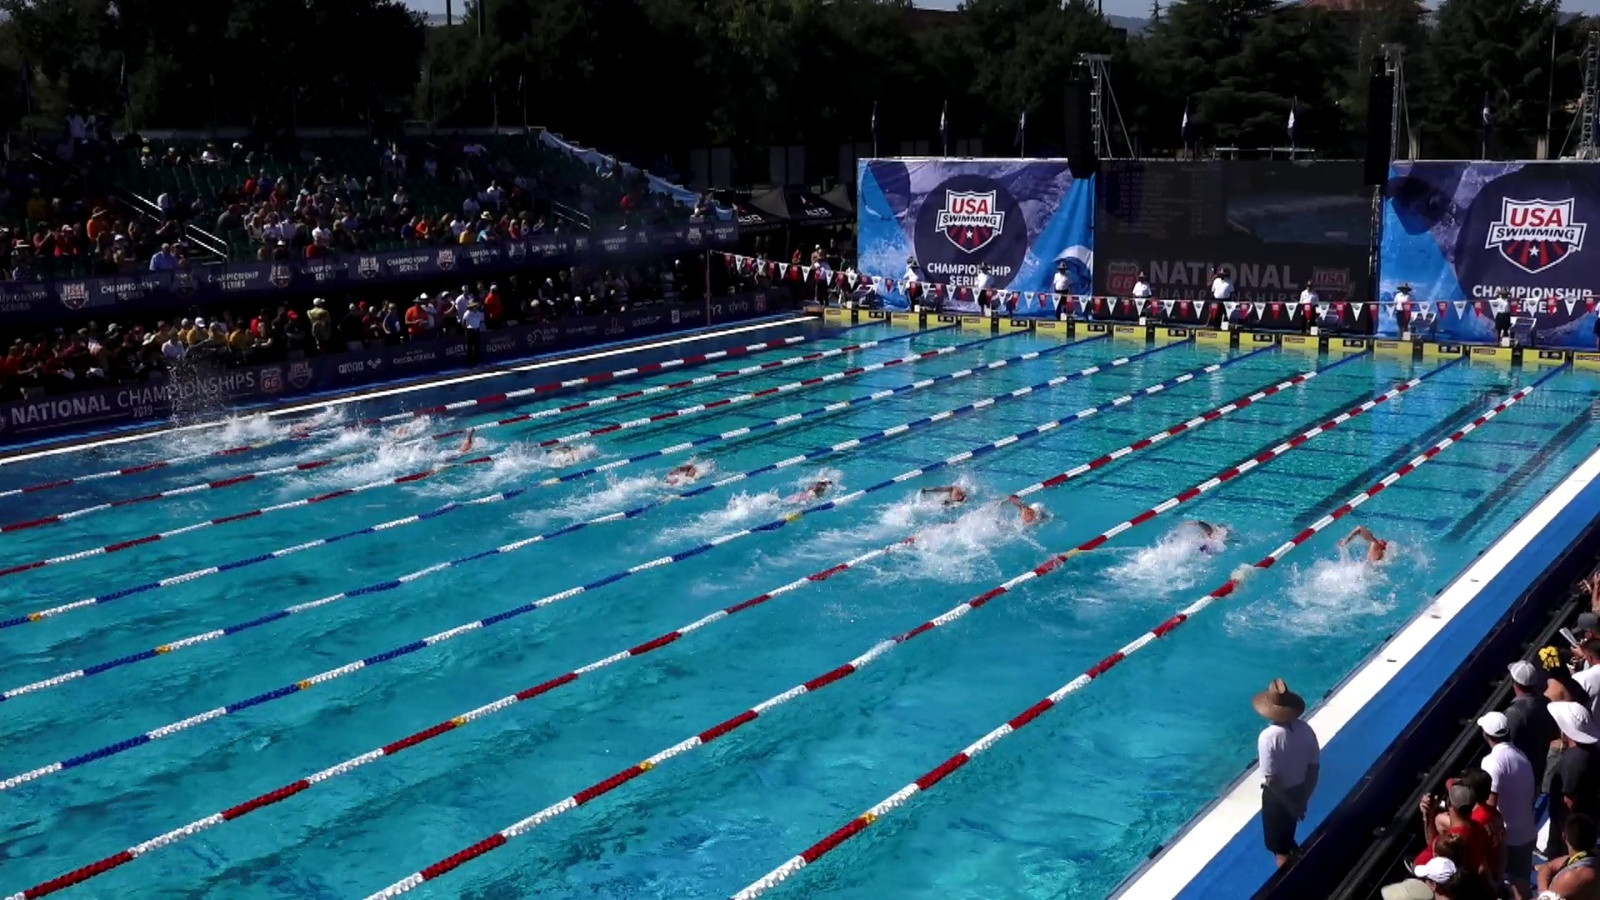swimmerw: (1341, 523, 1395, 597), (989, 495, 1053, 544), (1166, 519, 1225, 565), (911, 485, 974, 524), (426, 426, 477, 467), (651, 462, 707, 495), (767, 479, 834, 507), (521, 444, 579, 471), (277, 412, 329, 438), (386, 416, 438, 438)
